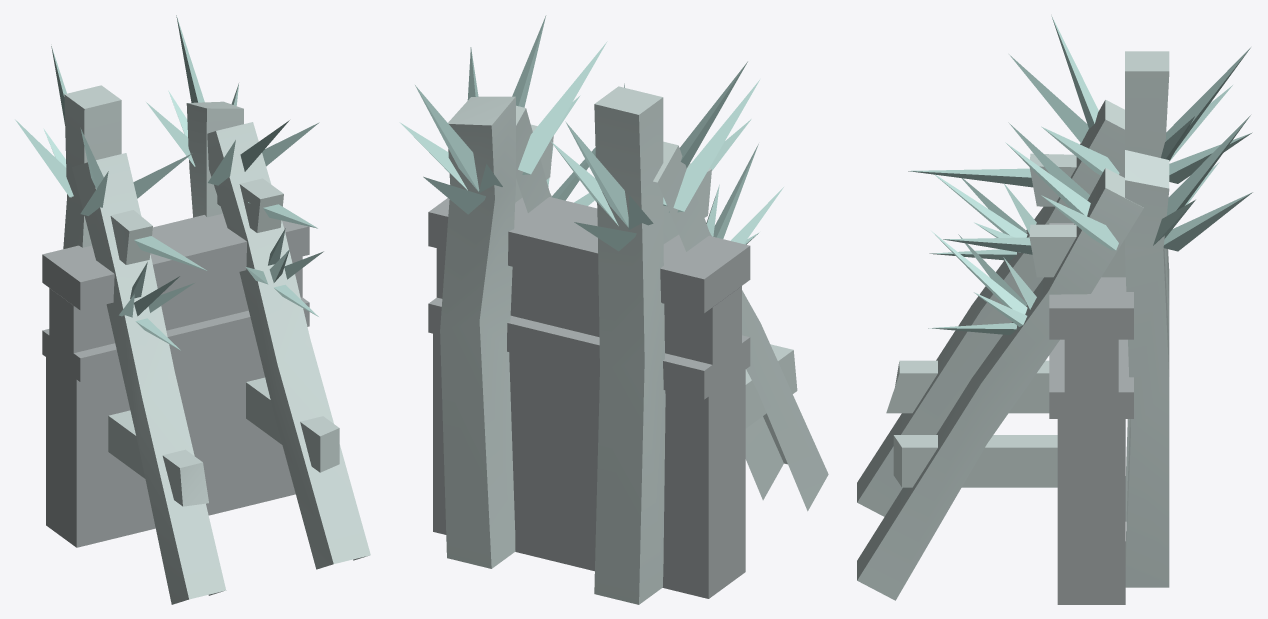
3 renders of one model, left to right at view 1: azimuth 30°, elevation 25°; view 2: azimuth 150°, elevation 25°; view 3: azimuth 270°, elevation 25°, orthographic. The views are drawn at different scales.
Visible parts, largest first — view 1: Object73; view 2: Object73; view 3: Object73.
Part boxes in pixels (x1=…): Object73: x1=15, y1=15, x2=370, y2=604; Object73: x1=399, y1=15, x2=828, y2=604; Object73: x1=857, y1=15, x2=1252, y2=604.
Bounding box in the file's own units: 154 × 270 × 203.
